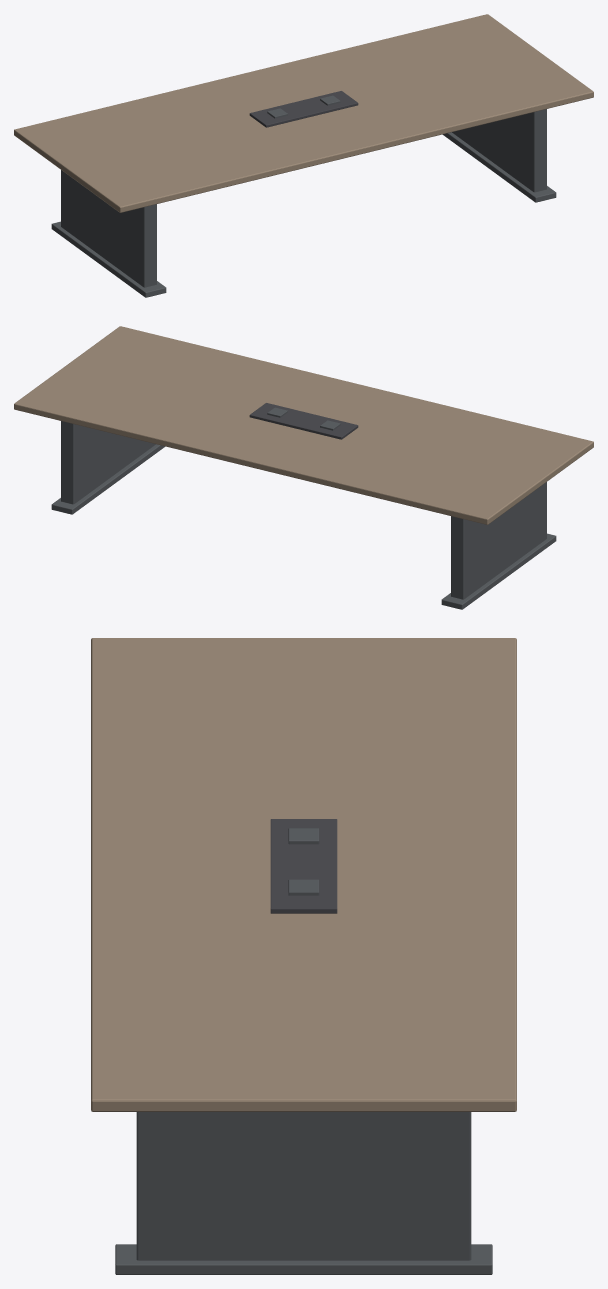
File: confTable.glb
The picture shows the model from 3 angles, top to bottom: view 1: azimuth 30°, elevation 25°; view 2: azimuth 150°, elevation 25°; view 3: azimuth 270°, elevation 25°; orthographic projection. The views are drawn at different scales.
Parts seen in each view (by area): view 1: confTable; view 2: confTable; view 3: confTable.
Boxes of the visible parts, x1,y1,x2,y2 form: confTable: (14,14,593,297); confTable: (14,326,593,609); confTable: (91,638,516,1274).
Bounding box in the file's own units: 3.6 × 0.779 × 1.4.
